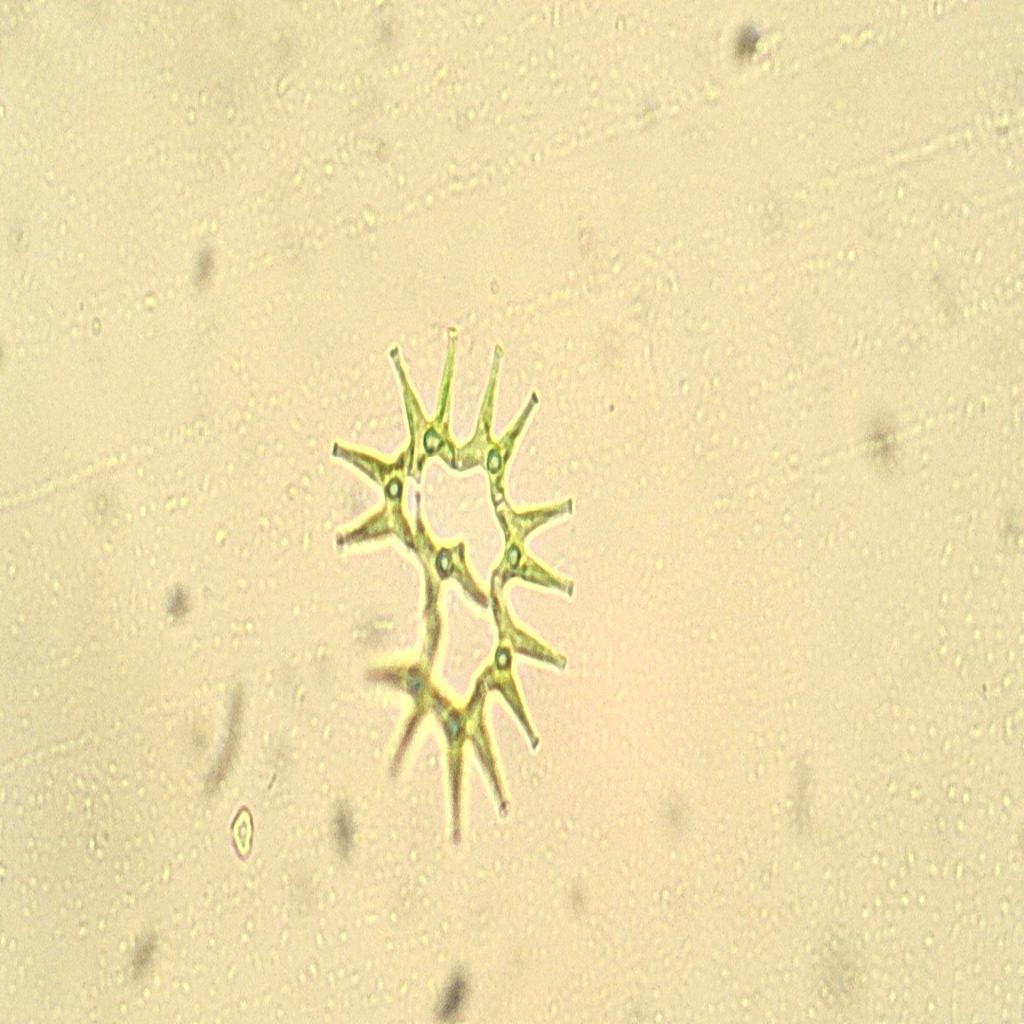Pediastrum_CFI: (303, 296, 582, 864)
